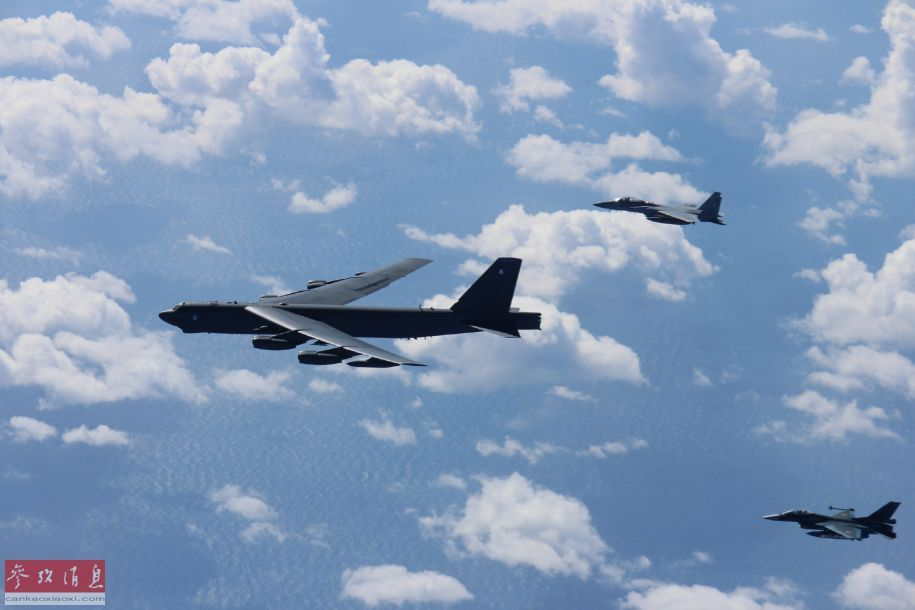airplane: (153, 245, 547, 372), (749, 495, 910, 548), (588, 185, 732, 229)
